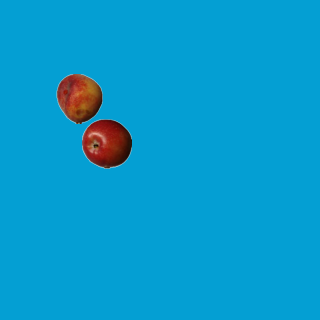Apple Braeburn: (81, 118, 131, 168)
Peach: (54, 73, 104, 123)
